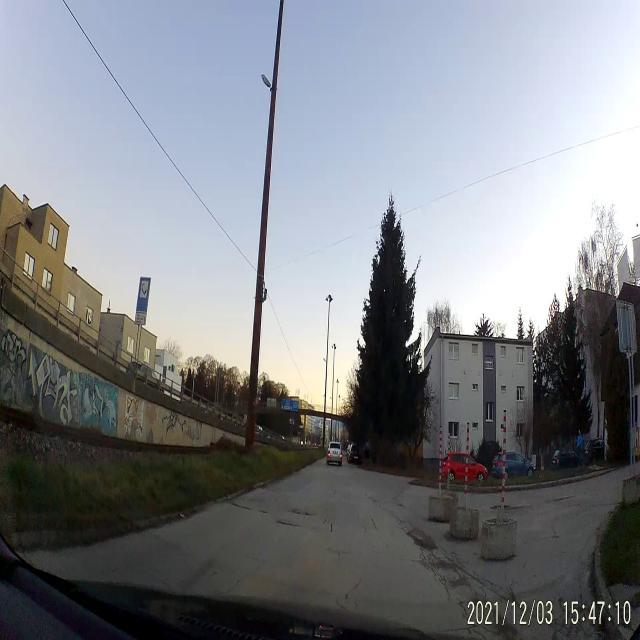Pothole: (407, 528, 446, 559), (271, 512, 299, 532), (288, 505, 306, 520), (230, 498, 252, 509)
